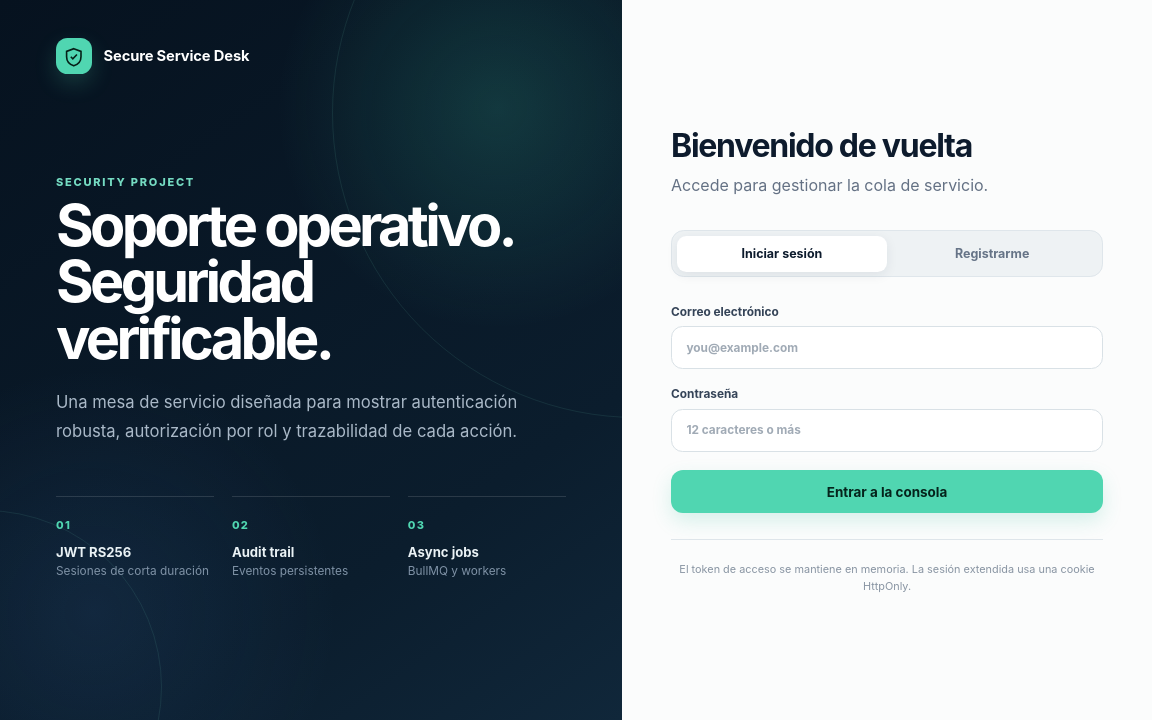
Test: AuthScreen › explains that self-registration grants only USER access
Click the tab "Registrarme" at {"x": 992, "y": 254}, box [887,236,1097,272]
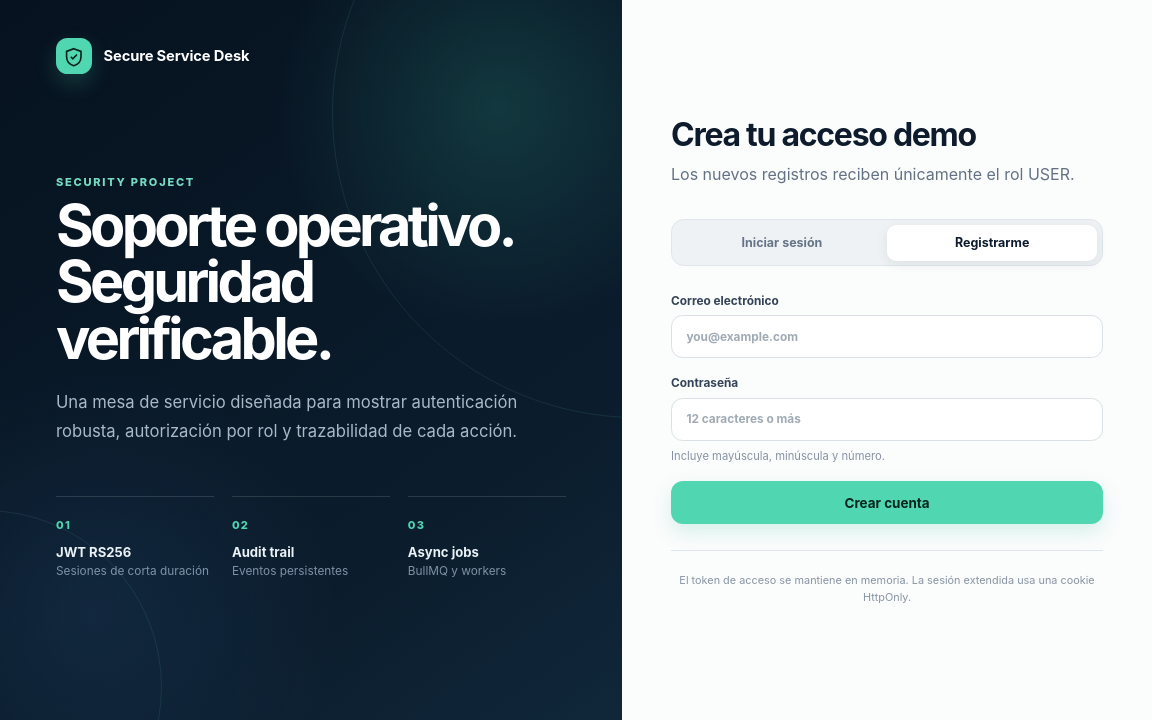
Check: the text "Los nuevos registros reciben únicamente el rol USER." is shown, box [671,162,1103,187]
